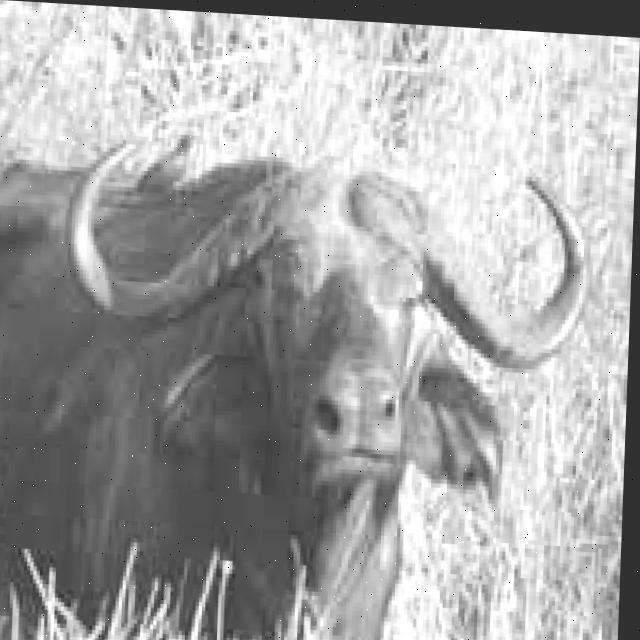Buffalo: (0, 132, 600, 640)
